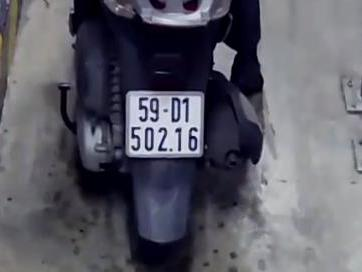num_plate: (124, 89, 206, 160)
